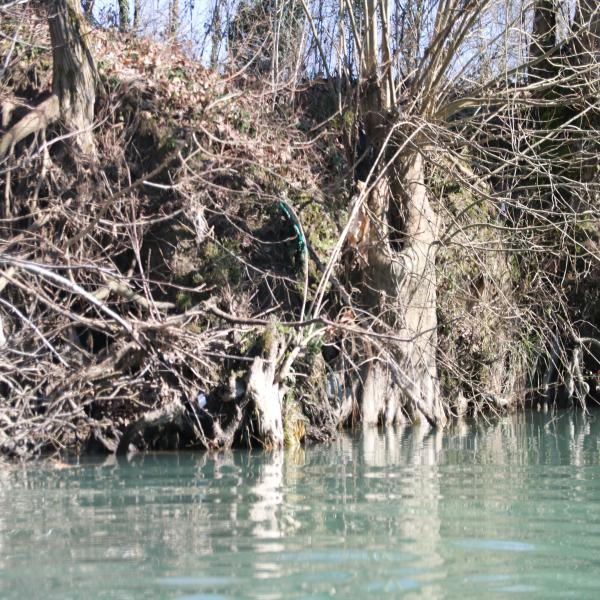others: (277, 199, 305, 253)
